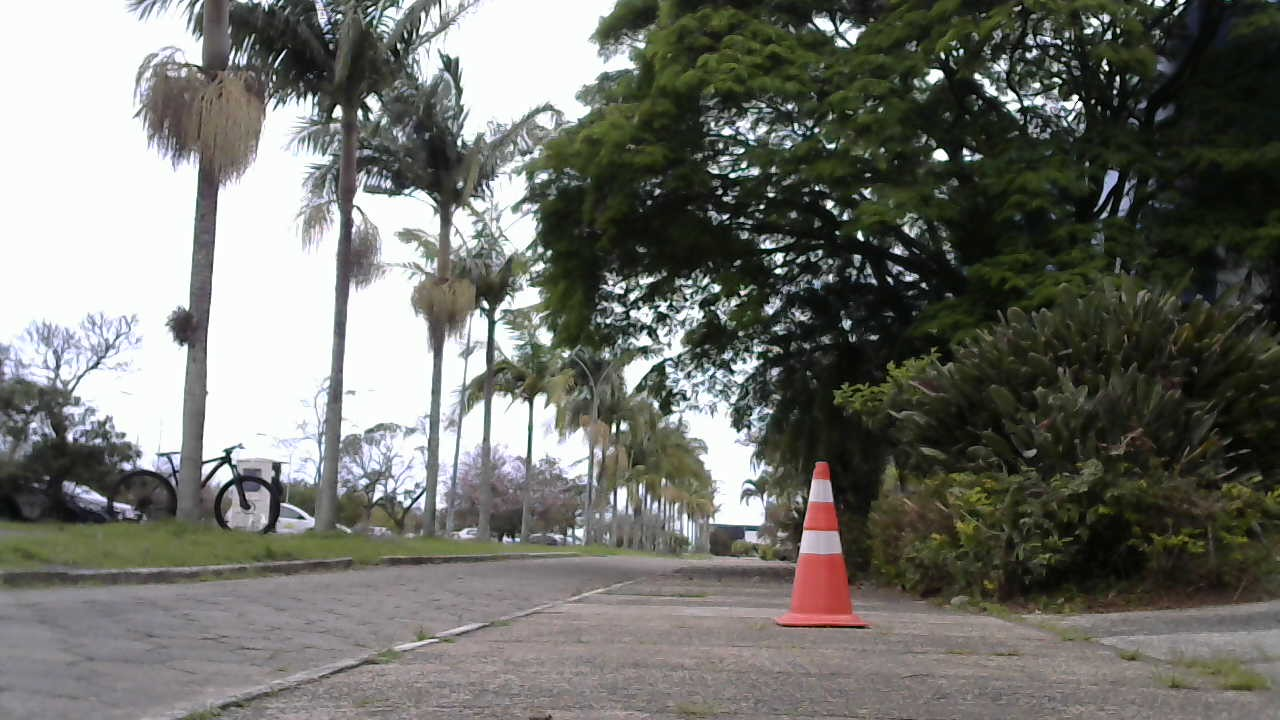cone: (783, 459, 862, 626)
